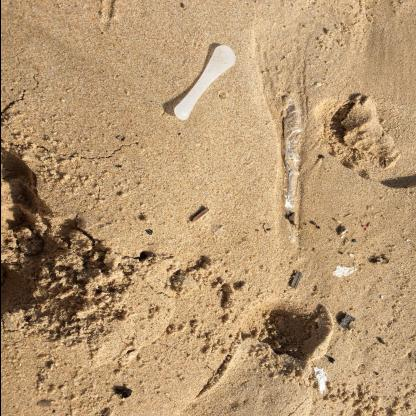plastik: (172, 45, 235, 120)
